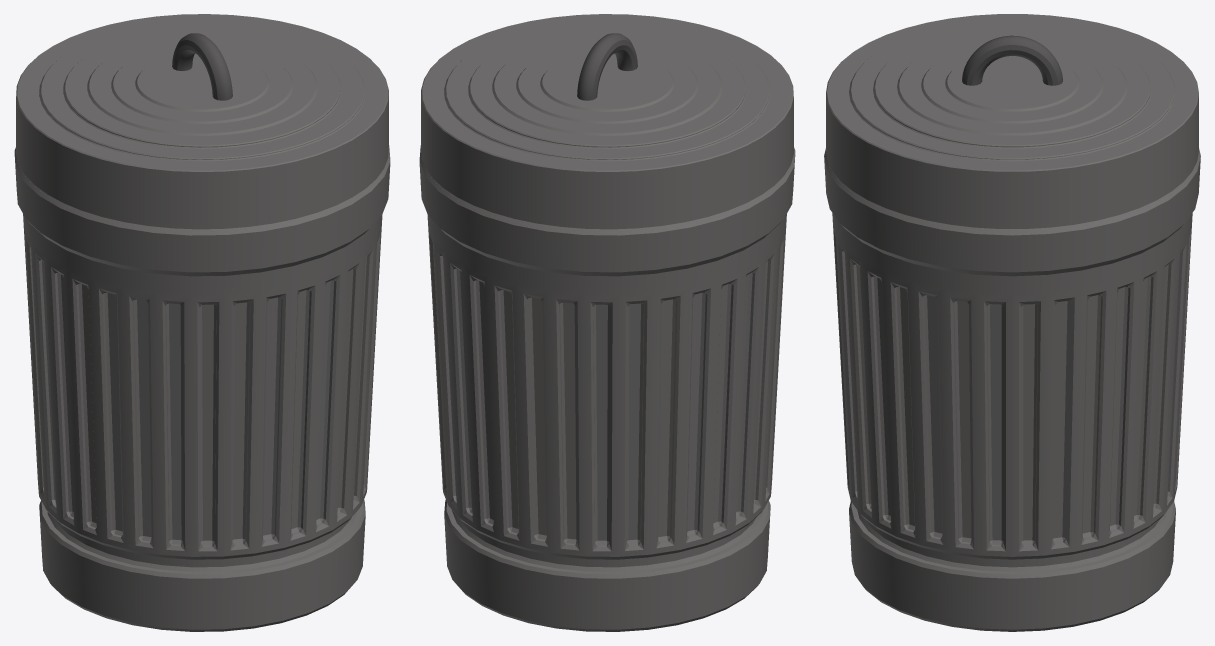
File: trashcan.fbx
3 renders of one model, left to right at view 1: azimuth 30°, elevation 25°; view 2: azimuth 150°, elevation 25°; view 3: azimuth 270°, elevation 25°, orthographic.
Parts seen in each view (by area): view 1: trashcan; view 2: trashcan; view 3: trashcan.
Part boxes in pixels (bbox=[...]): trashcan: bbox=[14, 14, 390, 631]; trashcan: bbox=[419, 14, 795, 631]; trashcan: bbox=[824, 14, 1200, 631].
Size of the model in its own units: 235 by 363 by 235.
